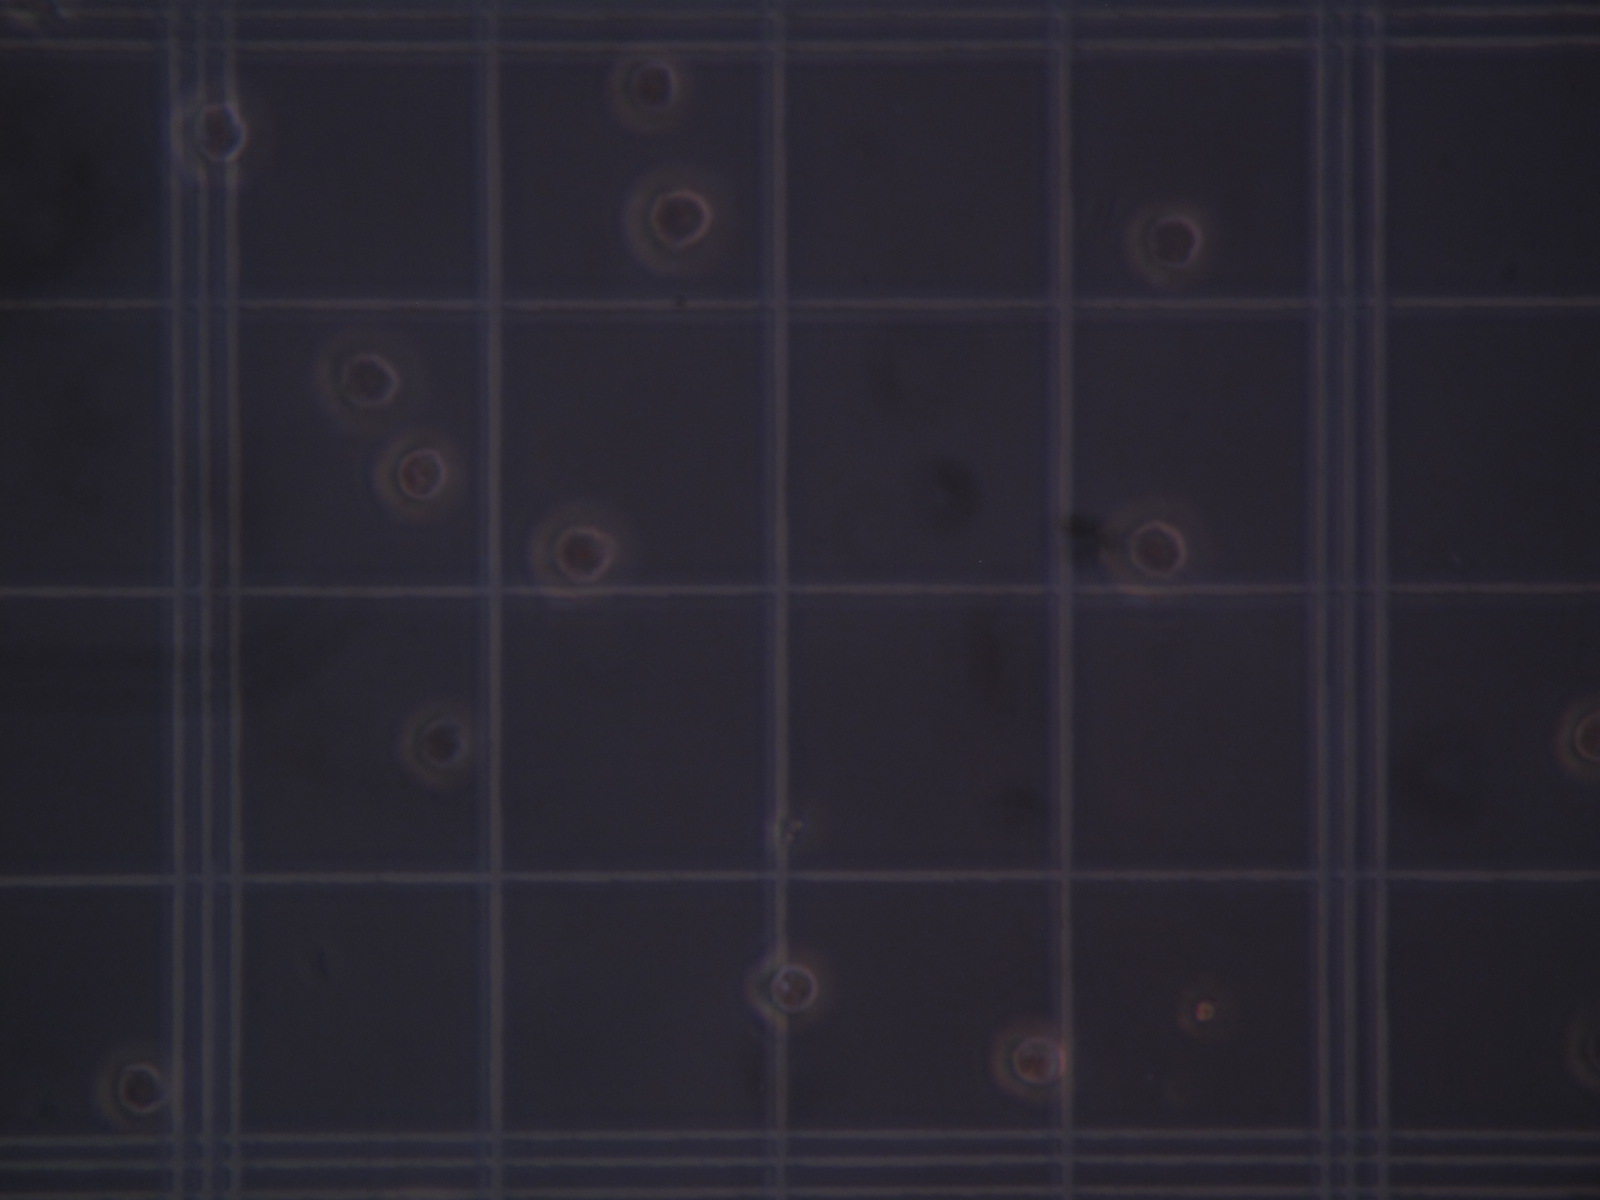hemo: (624, 168, 712, 277), (160, 86, 246, 193), (373, 430, 469, 524), (315, 326, 401, 431), (525, 512, 617, 609), (1099, 504, 1188, 603), (609, 52, 693, 137), (991, 1021, 1071, 1107), (398, 700, 471, 792), (741, 954, 820, 1031), (1128, 203, 1199, 287), (100, 1045, 166, 1127)
